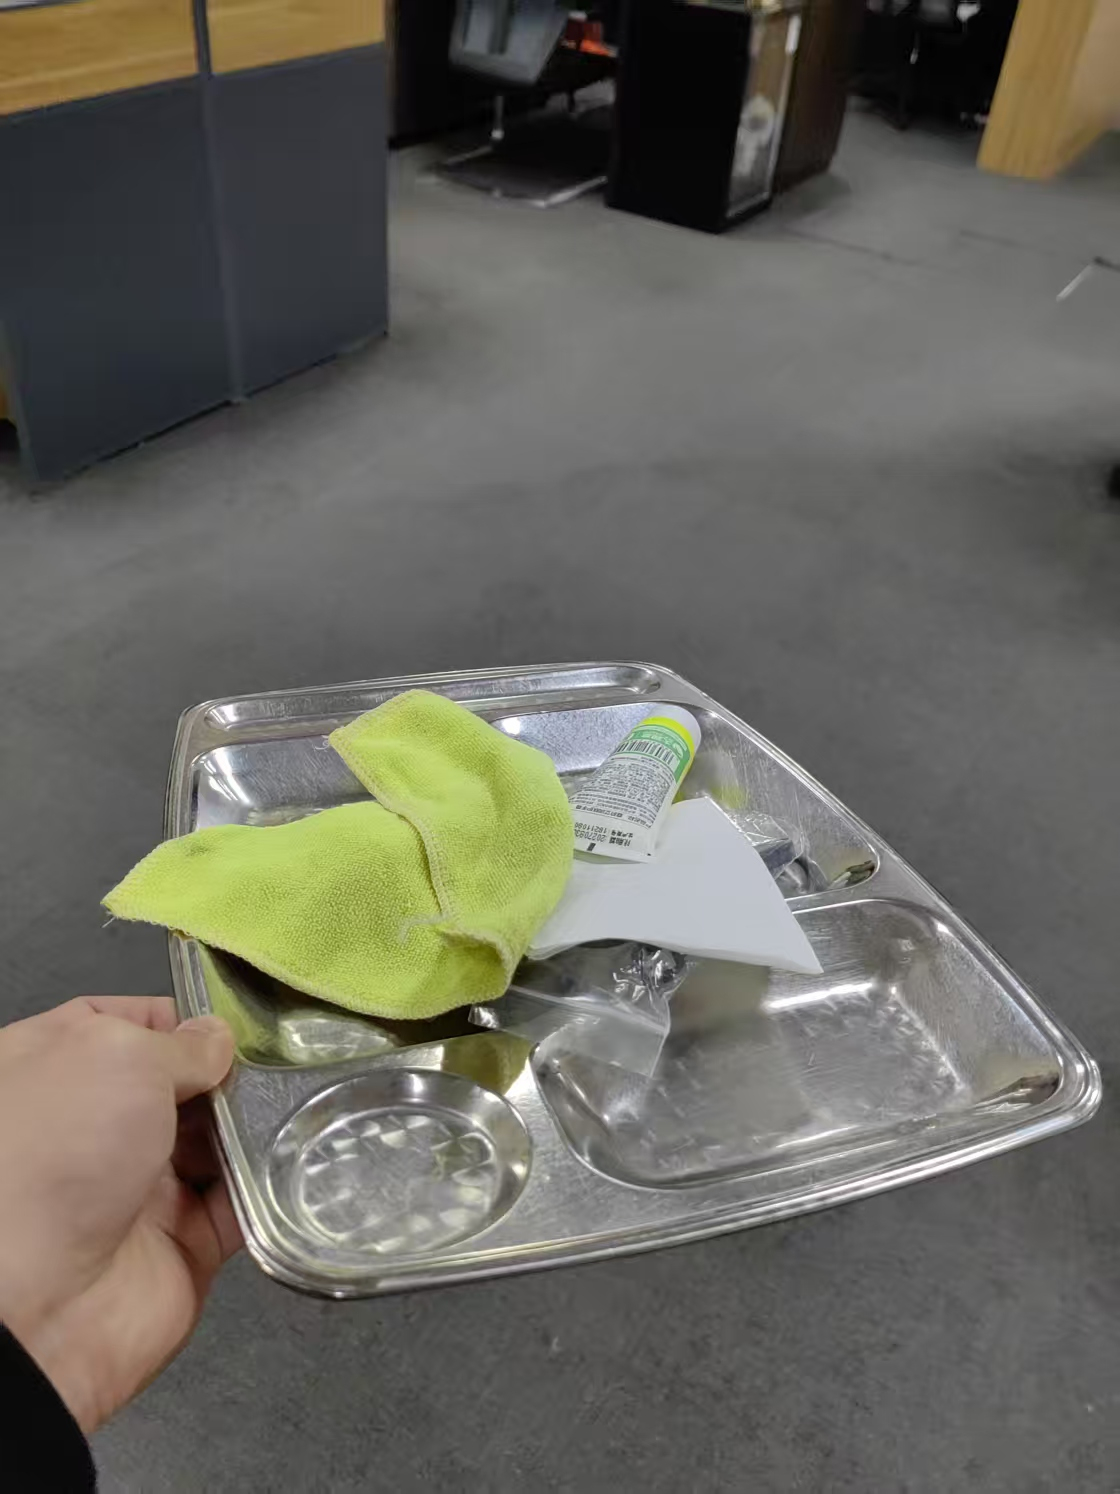moderate: (93, 685, 702, 1032)
plate: (162, 656, 1104, 1303)
tissue: (517, 792, 826, 976)
